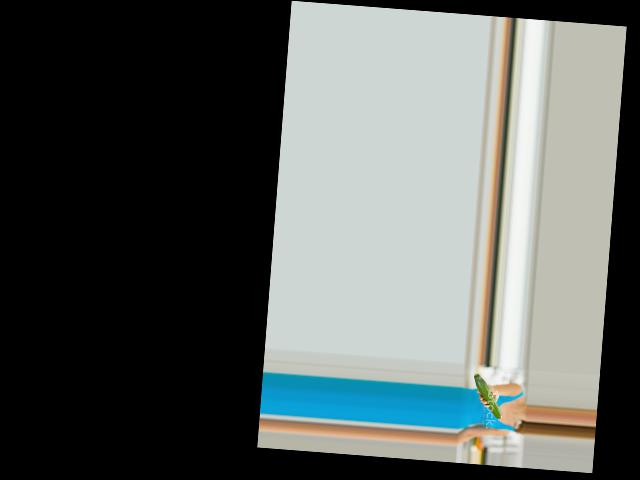cucumber: (470, 374, 504, 419)
